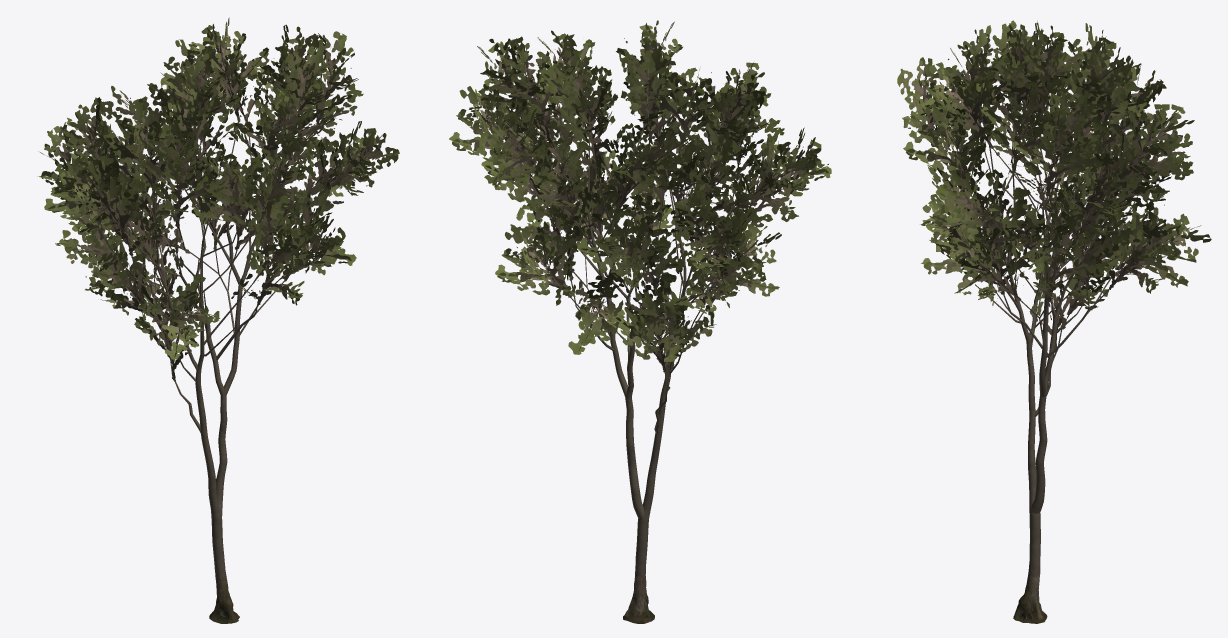
The model's file is SM_BlackAlder_Forest_04_PP_LOD5.gltf.
3 renders of one model, left to right at view 1: azimuth 30°, elevation 25°; view 2: azimuth 150°, elevation 25°; view 3: azimuth 270°, elevation 25°, orthographic. The views are drawn at different scales.
Parts seen in each view (by area): view 1: SM_BlackAlder_Forest_04_PP; view 2: SM_BlackAlder_Forest_04_PP; view 3: SM_BlackAlder_Forest_04_PP.
Part boxes in pixels (bbox=[...]): SM_BlackAlder_Forest_04_PP: bbox=[37, 17, 399, 623]; SM_BlackAlder_Forest_04_PP: bbox=[449, 20, 831, 623]; SM_BlackAlder_Forest_04_PP: bbox=[897, 20, 1211, 623].
Size of the model in its own units: 7.56 by 11.75 by 5.86.
3 materials, 3 textured.
